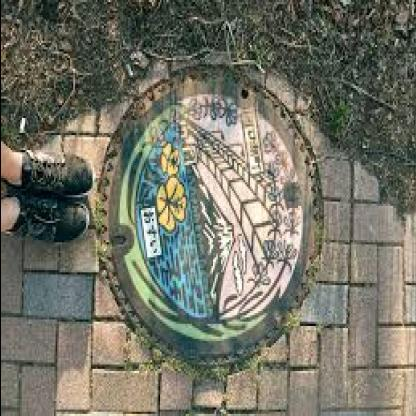manholes: (80, 38, 336, 388)
